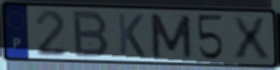2: (34, 8, 69, 58)
5: (195, 13, 225, 62)
B: (72, 9, 111, 59)
K: (116, 12, 147, 59)
M: (148, 12, 195, 60)
X: (229, 15, 272, 61)
